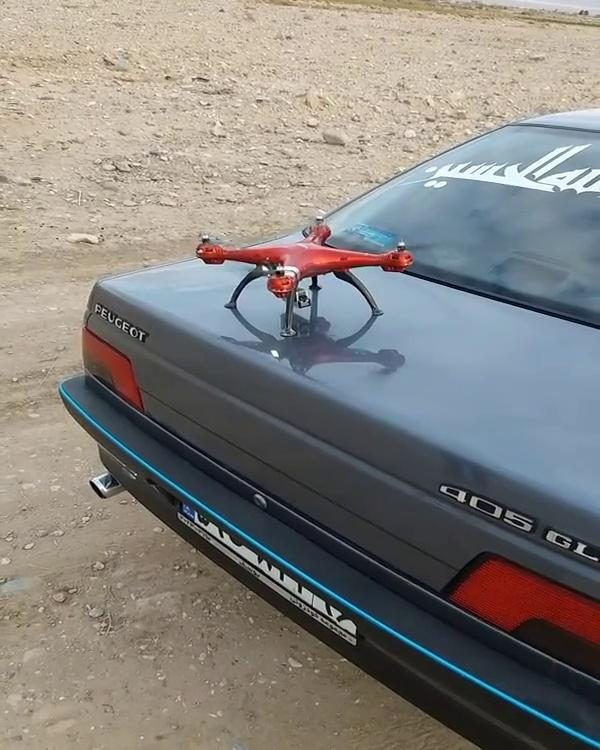drone: (188, 212, 436, 337)
